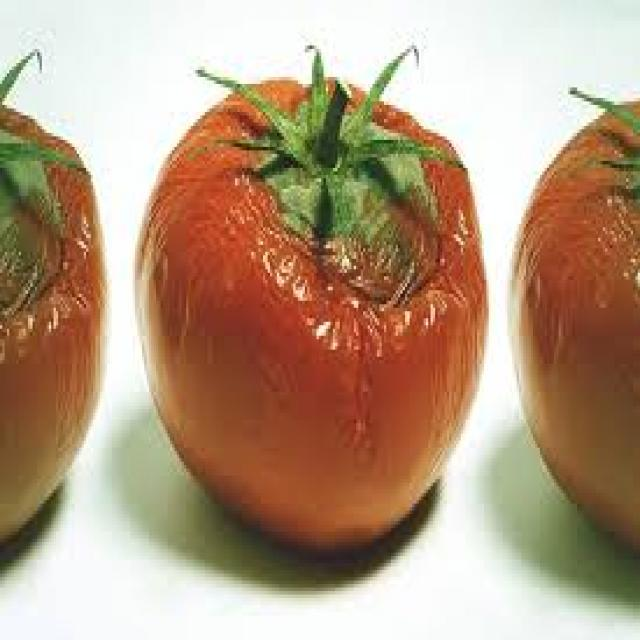organic waste: (128, 42, 486, 560), (507, 81, 638, 549), (0, 46, 105, 542)
